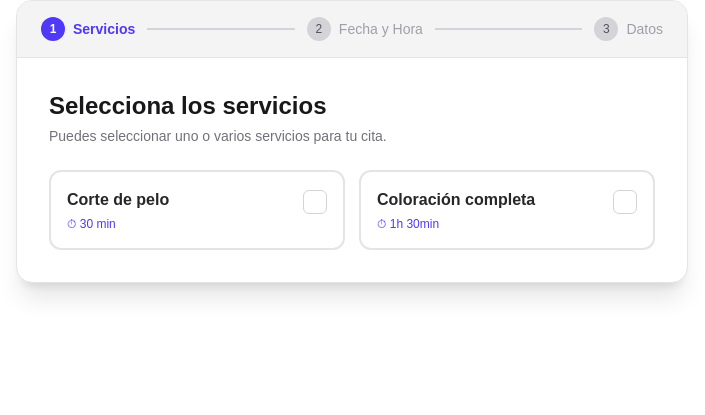
Test: BookingWizard Component › renders services and allows selecting multiple services with live duration
Expected: the text "Coloración completa" is shown, left=377, top=188, right=535, bottom=212
# Select first service
Click the text "Corte de pelo": (118, 200) left=67, top=188, right=169, bottom=212
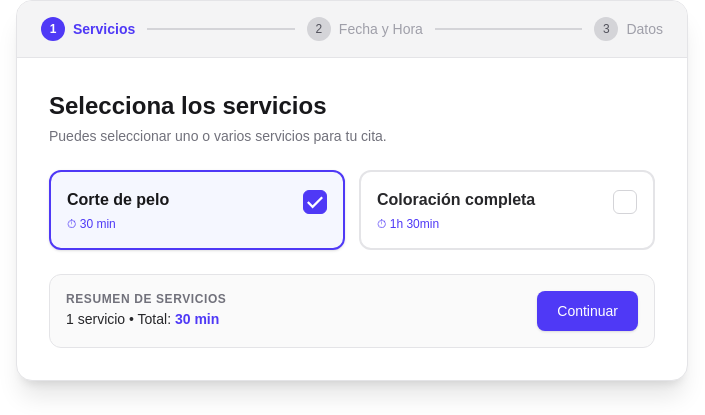
Now the text "1 servicio • Total: 30 min" is shown, box left=66, top=311, right=219, bottom=327
Now the text "30 min" is shown, box left=175, top=311, right=219, bottom=327
# Select second service
Click the text "Coloración completa": (456, 200) left=377, top=188, right=535, bottom=212
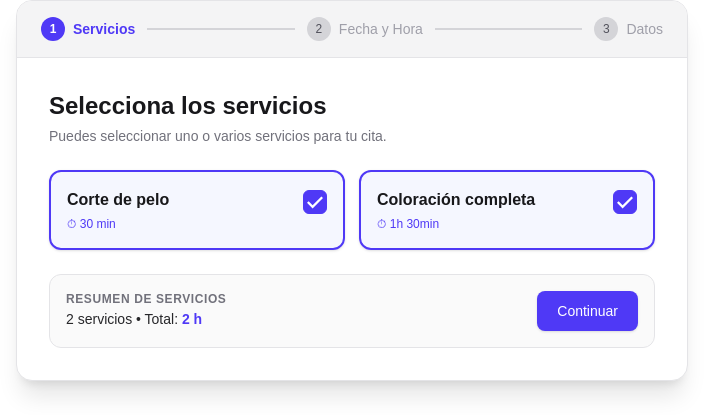
Now the text "2 servicios • Total: 2 h" is shown, box left=66, top=311, right=202, bottom=327
Now the text "2 h" is shown, box left=182, top=311, right=202, bottom=327
